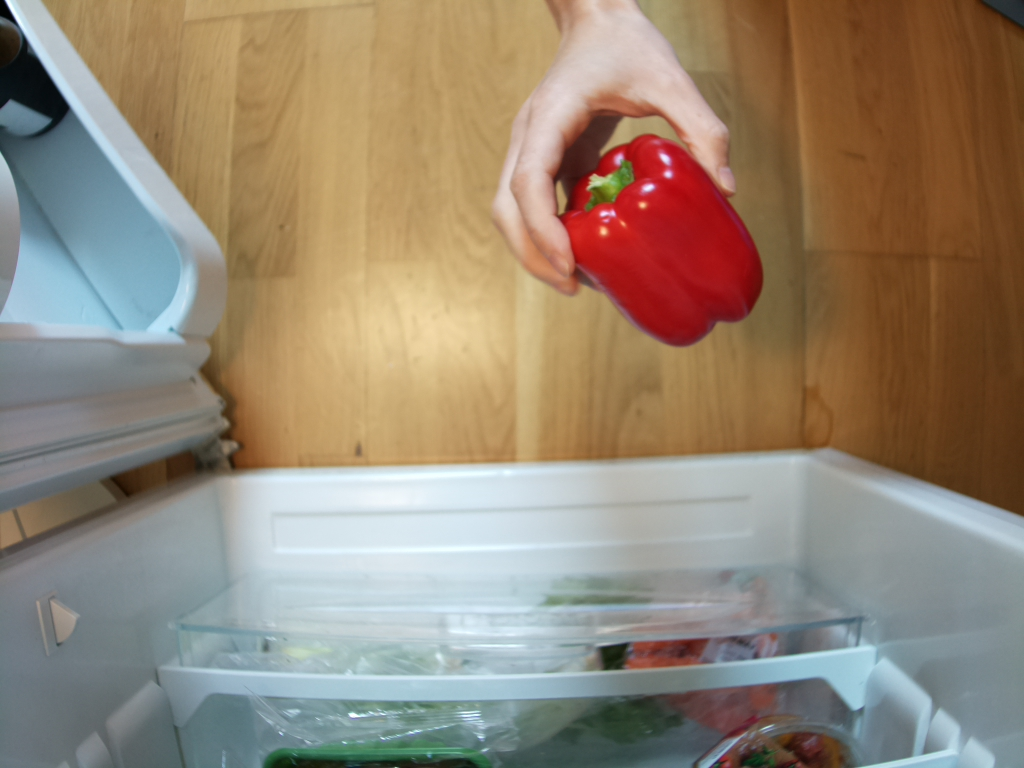pepper: (559, 132, 767, 349)
